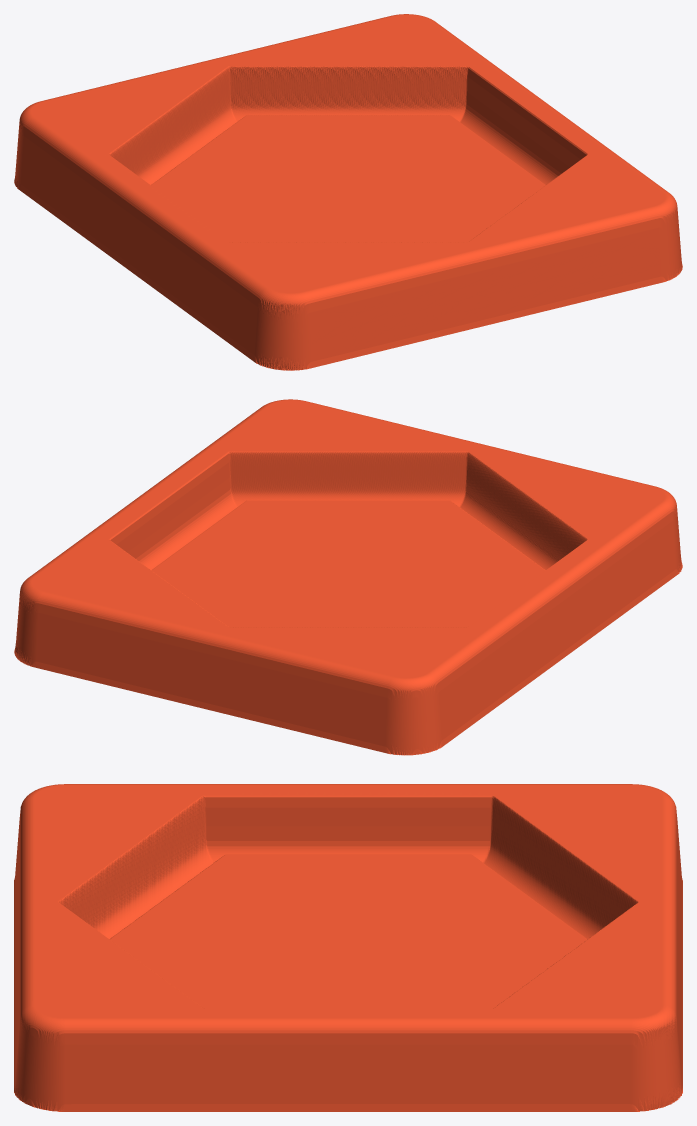
The model's file is mold.glb.
The picture shows the model from 3 angles, top to bottom: view 1: azimuth 30°, elevation 25°; view 2: azimuth 150°, elevation 25°; view 3: azimuth 270°, elevation 25°; orthographic projection. The views are drawn at different scales.
Parts seen in each view (by area): view 1: geometry_0; view 2: geometry_0; view 3: geometry_0.
Part boxes in pixels (x1,y1,x2,y2): geometry_0: (14,14,682,370); geometry_0: (14,399,682,755); geometry_0: (14,784,682,1111).
Size of the model in its own units: 0.1042 by 0.0165 by 0.1178.
